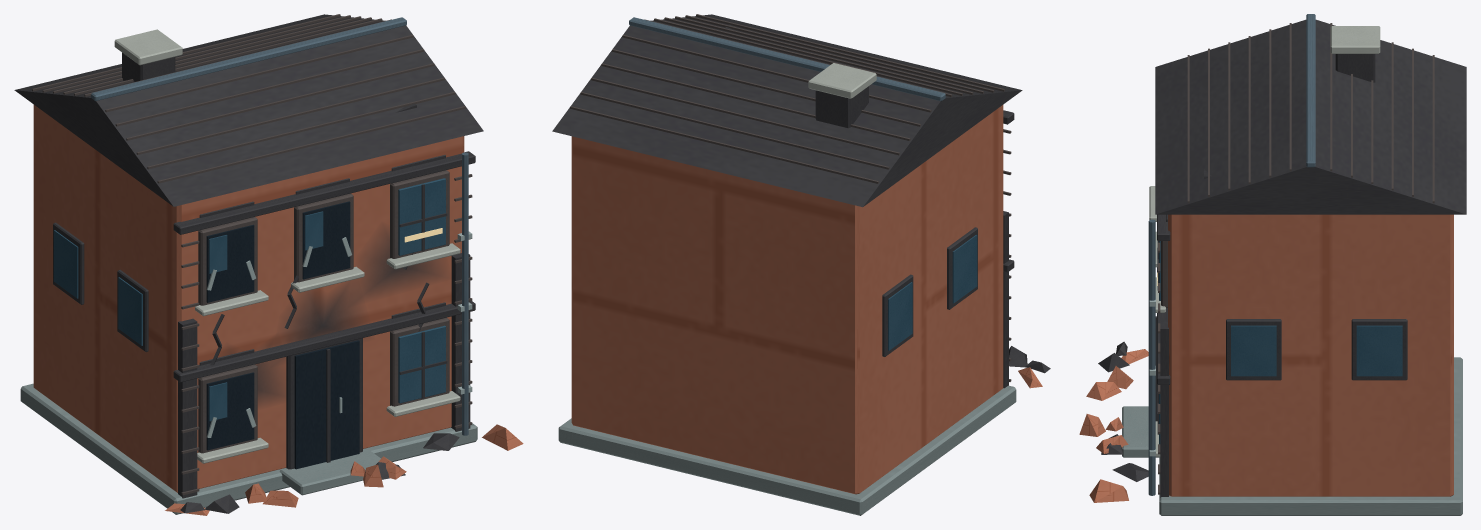
File: row-house-burning.glb
3 views of the same model, side by side, from view 1: azimuth 30°, elevation 25°; view 2: azimuth 150°, elevation 25°; view 3: azimuth 270°, elevation 25° (orthographic). The views are drawn at different scales.
Visible parts, largest first — view 1: row-house-burning; view 2: row-house-burning; view 3: row-house-burning.
Part boxes in pixels (x1,y1,x2,y2): row-house-burning: (14,14,523,515); row-house-burning: (552,14,1050,515); row-house-burning: (1079,14,1466,515).
Bounding box in the file's own units: 5.91 × 6.46 × 6.1.
Materials: 5 (5 with a texture image).
